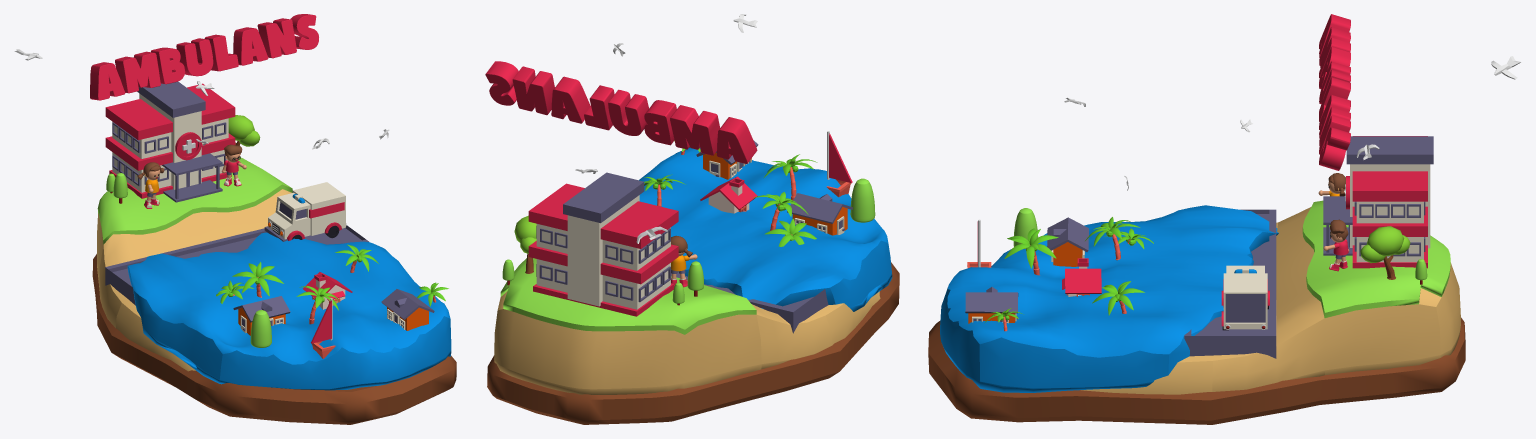
3 views of the same model, side by side, from view 1: azimuth 30°, elevation 25°; view 2: azimuth 150°, elevation 25°; view 3: azimuth 270°, elevation 25° (orthographic). The views are drawn at different scales.
Parts seen in each view (by area): view 1: Plane.016, Plane.013, Text.001, Plane.015, Plane.007, Cube.012, Cube.023, Cube.008, Cube.031, Cube.035, Cube.011, Cube.034 (+12 smaller); view 2: Plane.016, Plane.015, Plane.013, Text.001, Plane.007, Cube.008, Cube.012, Cube.011, Cube.031, Cube.014, Cube.023, Cube.050 (+14 smaller); view 3: Plane.016, Plane.015, Plane.013, Plane.007, Text.001, Cube.023, Cube.035, Cube.012, Cube.031, Cube.008, Cube.011, Cube.076 (+9 smaller).
Boxes of the visible parts, <box> form: Plane.016: <box>127,232,451,390</box>; Plane.013: <box>92,254,456,424</box>; Text.001: <box>90,14,318,100</box>; Plane.015: <box>97,189,291,371</box>; Plane.007: <box>97,157,292,244</box>; Cube.012: <box>105,83,235,140</box>; Cube.023: <box>105,225,368,305</box>; Cube.008: <box>112,118,228,192</box>; Cube.031: <box>137,81,205,117</box>; Cube.035: <box>292,182,345,235</box>; Cube.011: <box>139,93,201,189</box>; Cube.034: <box>268,193,310,239</box>; Plane.016: <box>639,147,892,311</box>; Plane.015: <box>494,291,880,394</box>; Plane.013: <box>487,262,899,424</box>; Text.001: <box>485,61,757,163</box>; Plane.007: <box>500,258,756,334</box>; Cube.008: <box>536,224,670,309</box>; Cube.012: <box>528,183,678,248</box>; Cube.011: <box>567,195,639,306</box>; Cube.031: <box>563,172,644,223</box>; Cube.014: <box>528,241,678,284</box>; Cube.023: <box>671,272,828,333</box>; Cube.050: <box>787,193,852,223</box>; Plane.016: <box>940,205,1278,392</box>; Plane.015: <box>1081,207,1460,394</box>; Plane.013: <box>928,317,1465,424</box>; Plane.007: <box>1302,200,1450,317</box>; Text.001: <box>1319,14,1350,170</box>; Cube.023: <box>1184,209,1276,358</box>; Cube.035: <box>1223,273,1267,329</box>; Cube.012: <box>1352,136,1427,201</box>; Cube.031: <box>1346,136,1433,164</box>; Cube.008: <box>1356,201,1423,262</box>; Cube.011: <box>1350,164,1430,248</box>; Cube.076: <box>965,292,1018,313</box>.
Bounding box in the file's own units: 0.3161 × 0.2992 × 0.5412.
